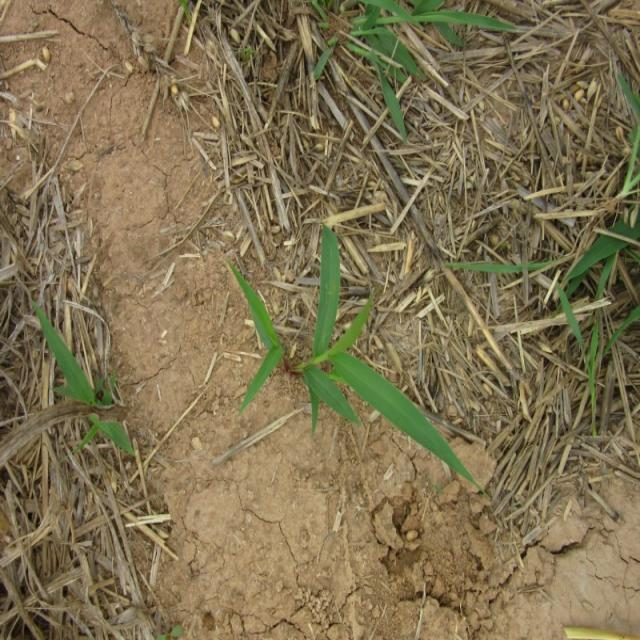bg: (227, 214, 478, 493)
